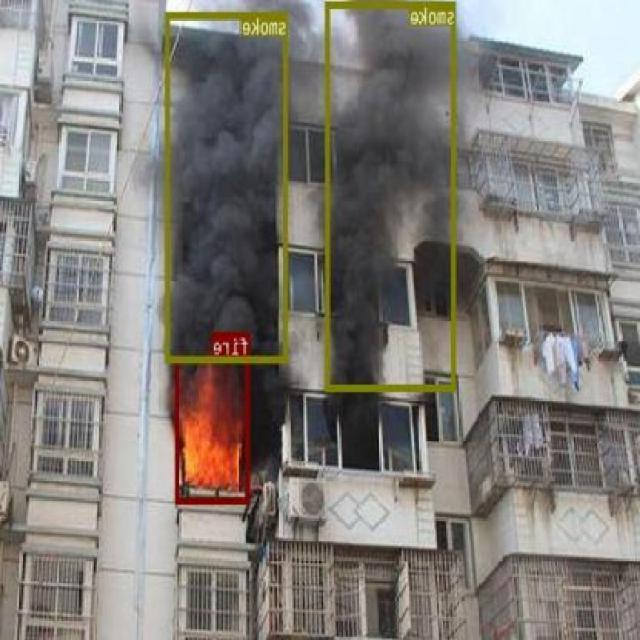Fire: (177, 355, 251, 503)
Smoke: (327, 1, 456, 390), (166, 11, 288, 362)
